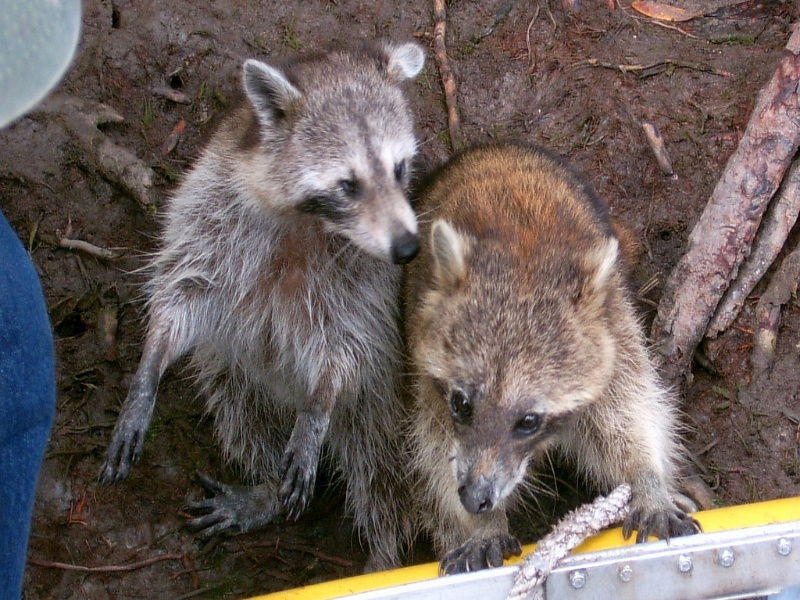raccoon: (102, 36, 420, 558), (403, 132, 703, 576)
